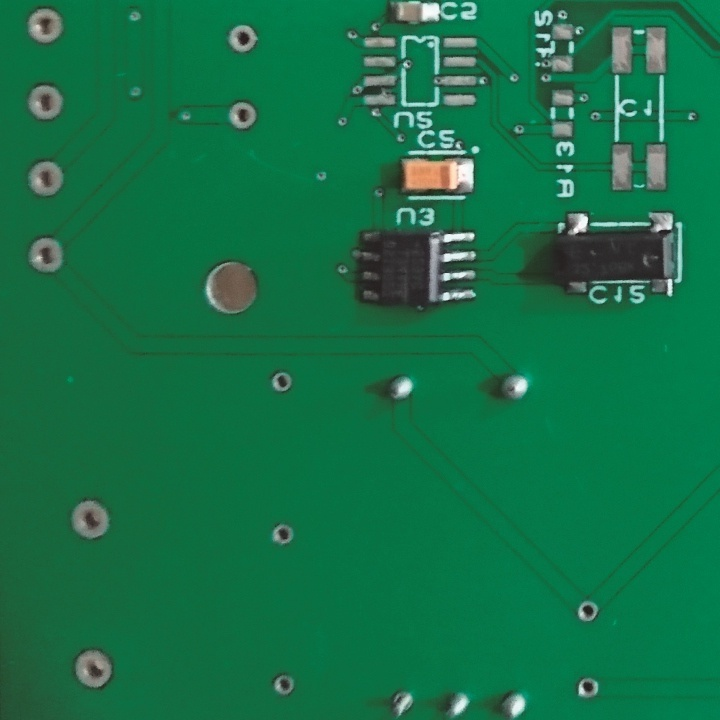F: (72, 644, 116, 692), (67, 498, 114, 542), (23, 81, 65, 123), (24, 158, 67, 199), (25, 235, 67, 276), (23, 4, 67, 43), (227, 22, 261, 57), (226, 97, 259, 132), (388, 689, 420, 716), (574, 600, 601, 626), (270, 672, 298, 697), (270, 522, 294, 550), (576, 675, 601, 701), (268, 370, 293, 395)
